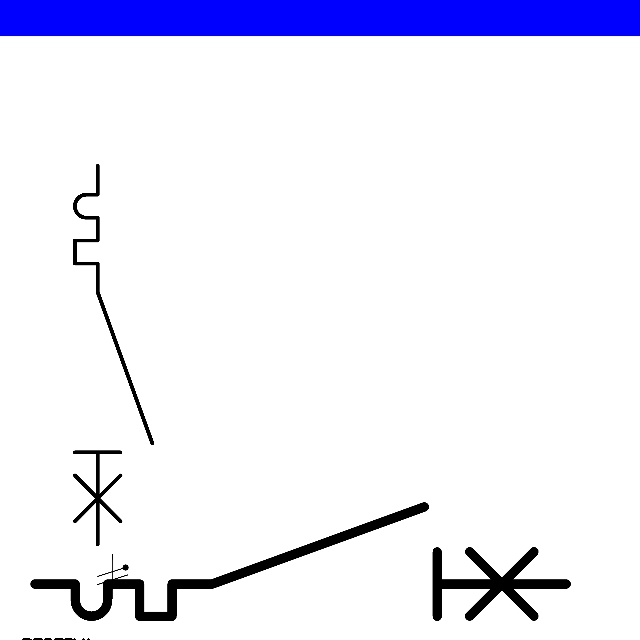interruptor_termomagnetico: (21, 493, 579, 630), (65, 156, 162, 553)
